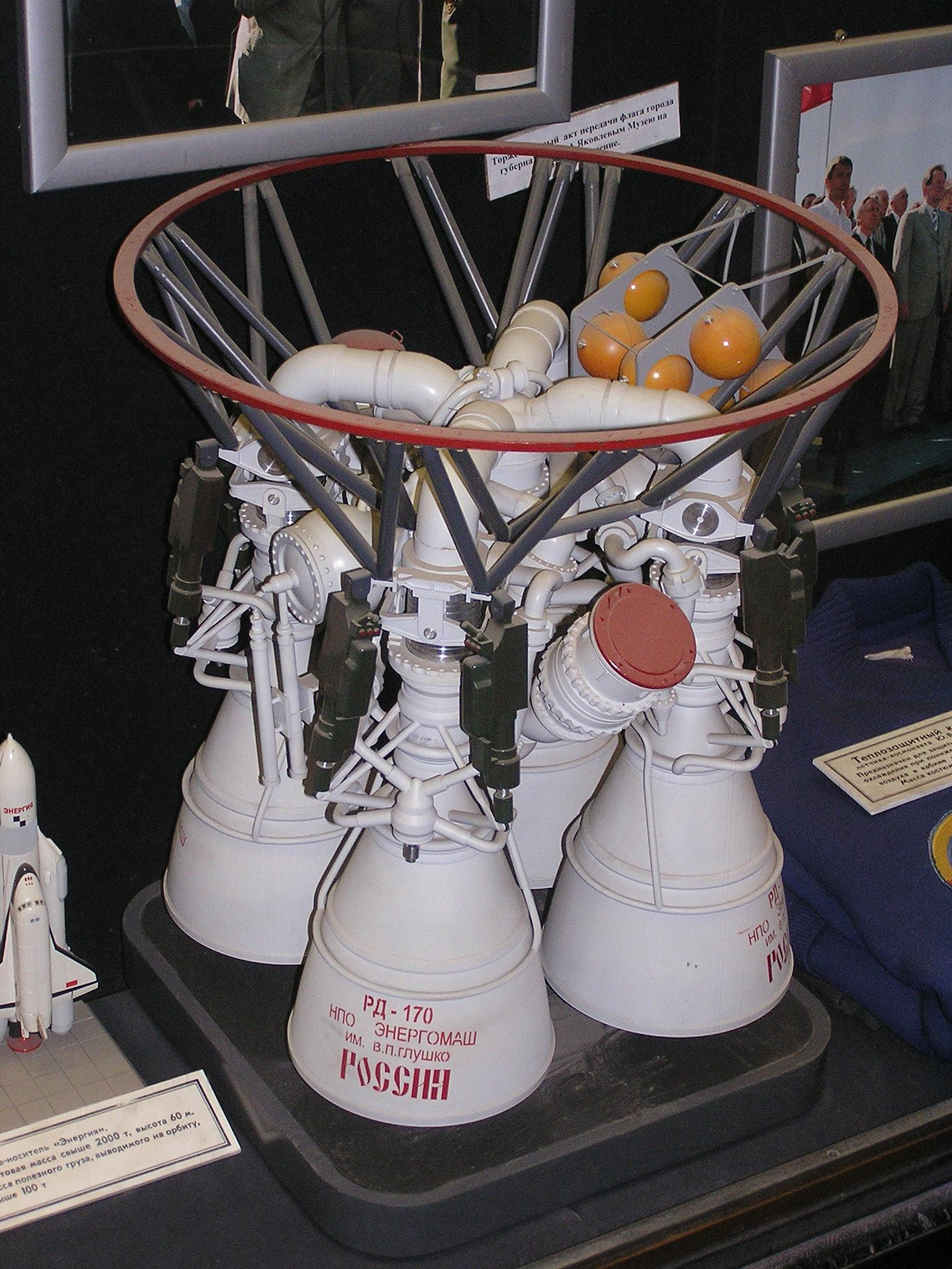thruster: (536, 705, 801, 1041), (280, 822, 560, 1136), (156, 656, 399, 970), (488, 726, 636, 894)
